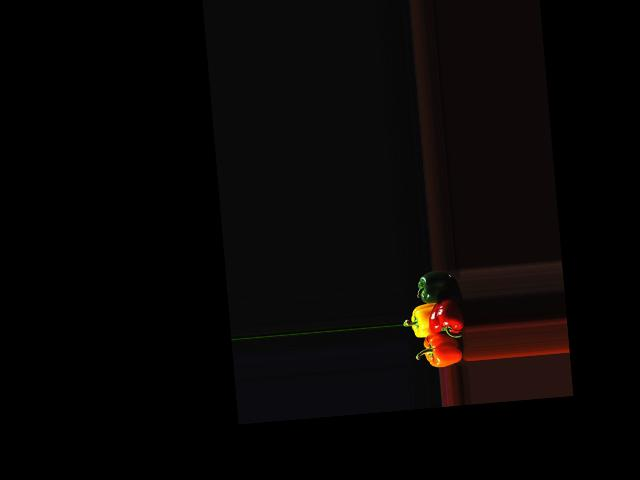bell_pepper: (418, 330, 469, 369)
